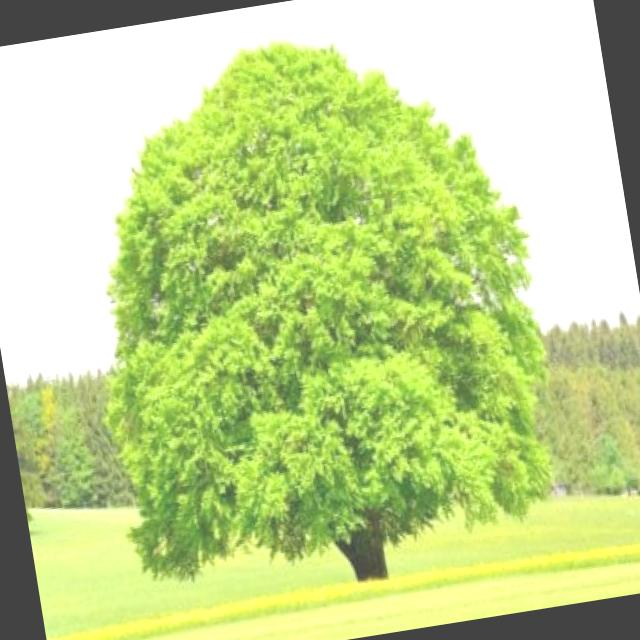foliage: (103, 37, 552, 586)
